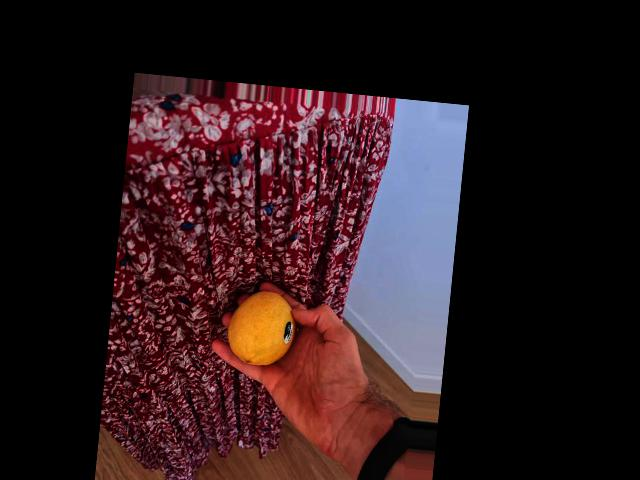lemon: (228, 288, 300, 367)
